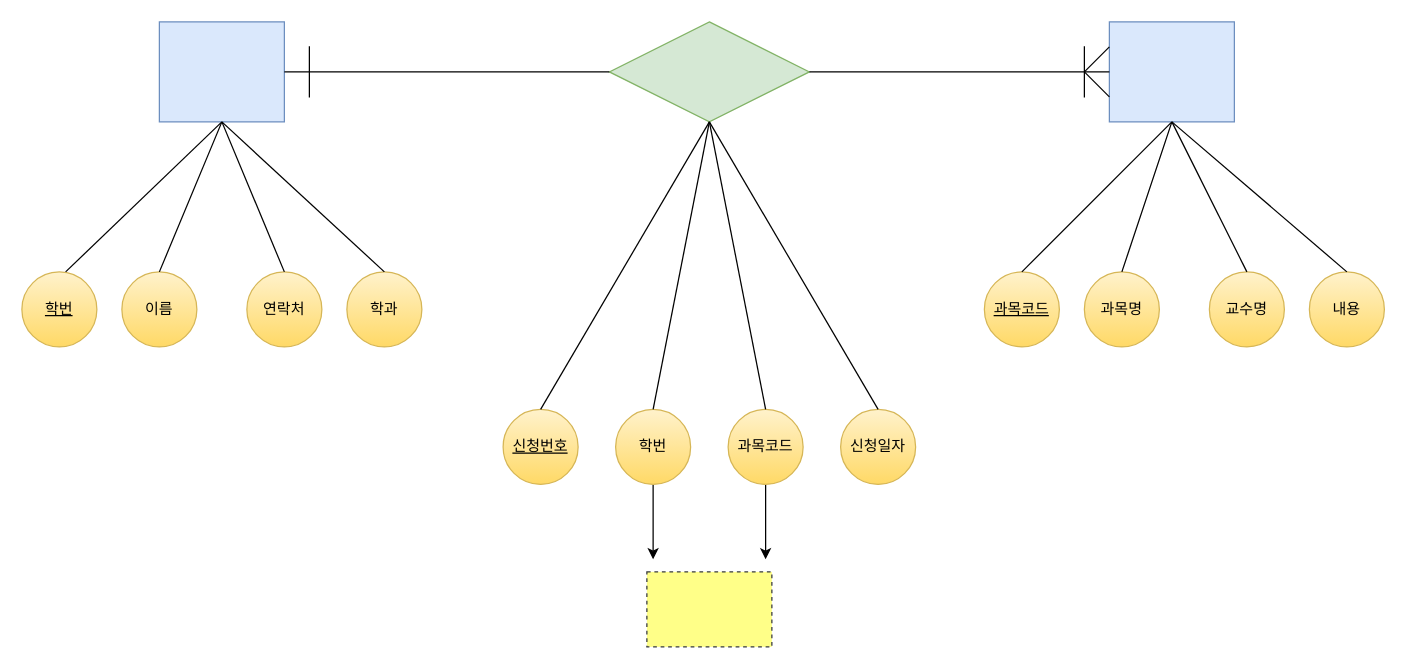
Image size: 1406x669. Some labels were removed from this diagram. The shapes that lost their labels are listed below. From the top down, each one's box as (x1, y1, x2, y2) in pixels, then its label:
(158, 21, 284, 122): 학생
(608, 21, 809, 122): 신청
(1108, 21, 1234, 122): 과목
(646, 571, 772, 647): 외부키
